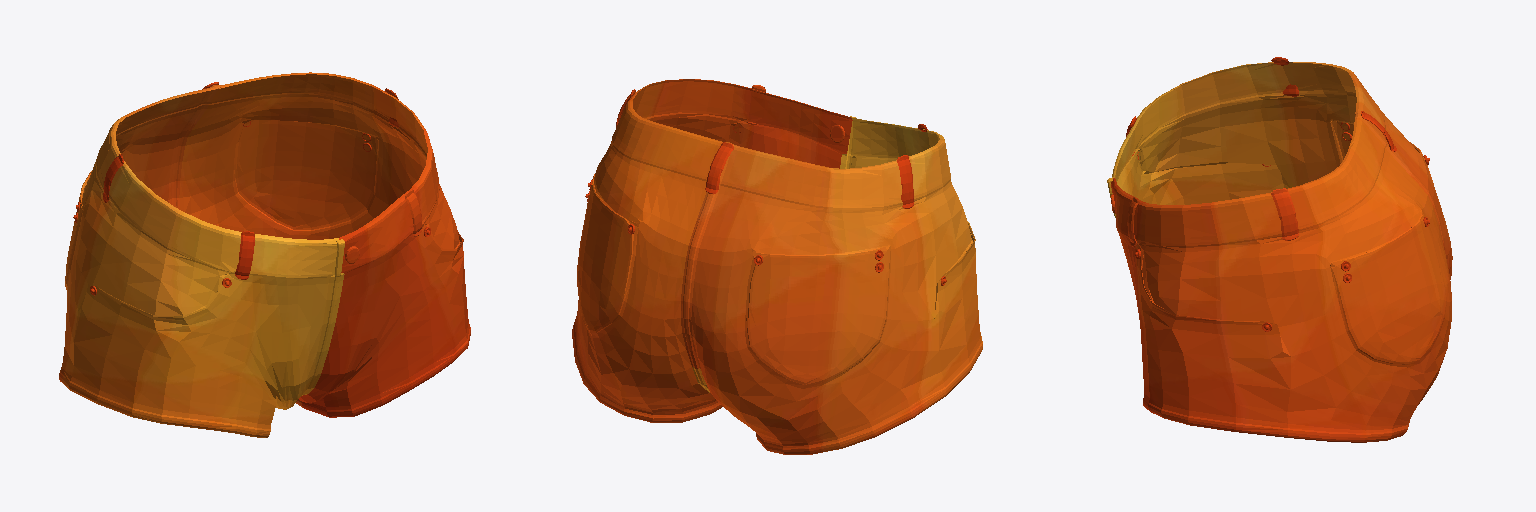
3 views of the same model, side by side, from view 1: azimuth 30°, elevation 25°; view 2: azimuth 150°, elevation 25°; view 3: azimuth 270°, elevation 25° (orthographic).
Parts seen in each view (by area): view 1: short_jeans; view 2: short_jeans; view 3: short_jeans.
Part boxes in pixels (x1,y1,x2,y2): short_jeans: (59, 72, 470, 437); short_jeans: (572, 79, 982, 454); short_jeans: (1107, 57, 1452, 442).
Size of the model in its own units: 43.33 by 32.52 by 35.43.
Materials: 1 (1 with a texture image).